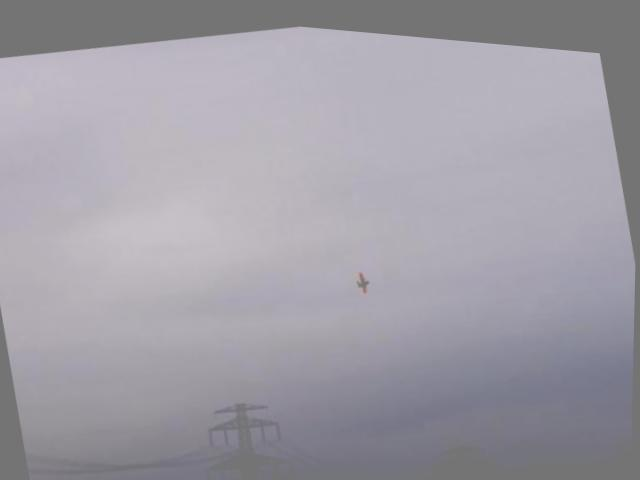iha: (348, 253, 380, 293)
